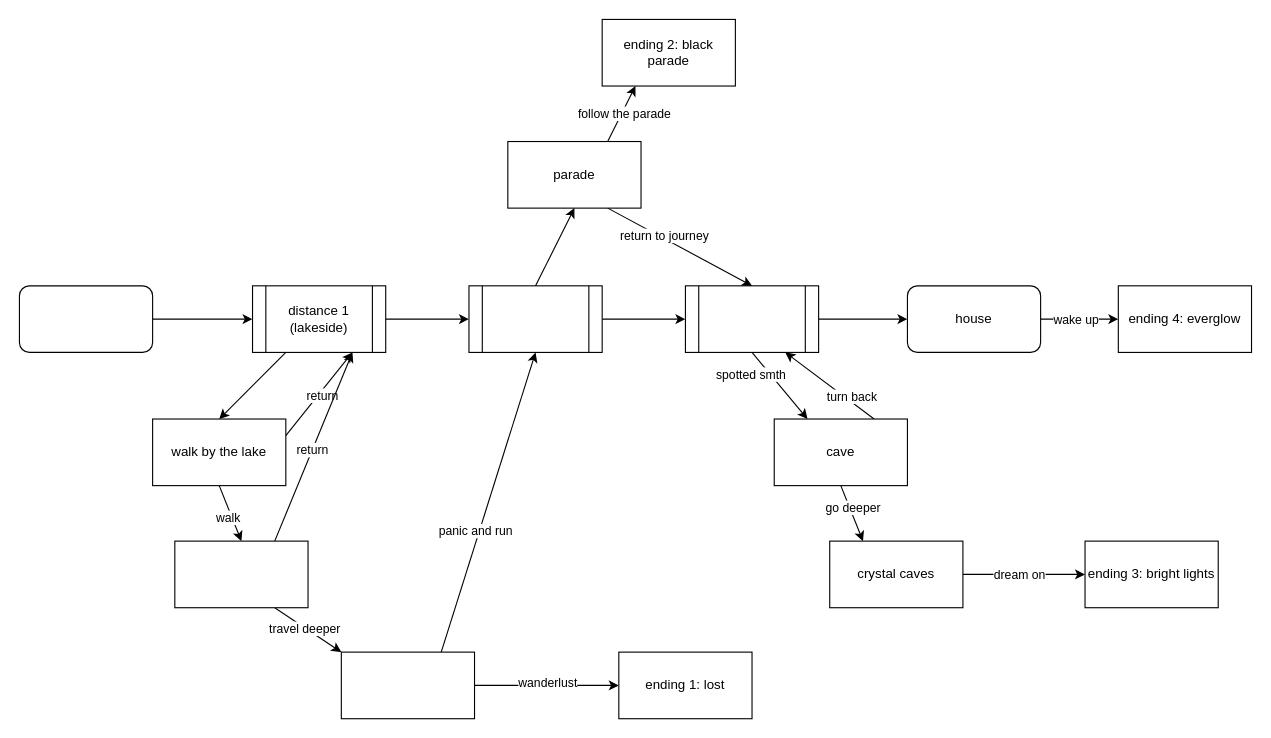
Some shapes in this 1271 by 738 pixel diagram are drawn without their labels. Here are the shapes that lost their labels. From the top down, the centre of each, then its label:
(85,318): start
(535,318): distance 2 (town)
(751,318): distance 3 (mountain)
(241,574): forest entrance
(407,685): deep forest
